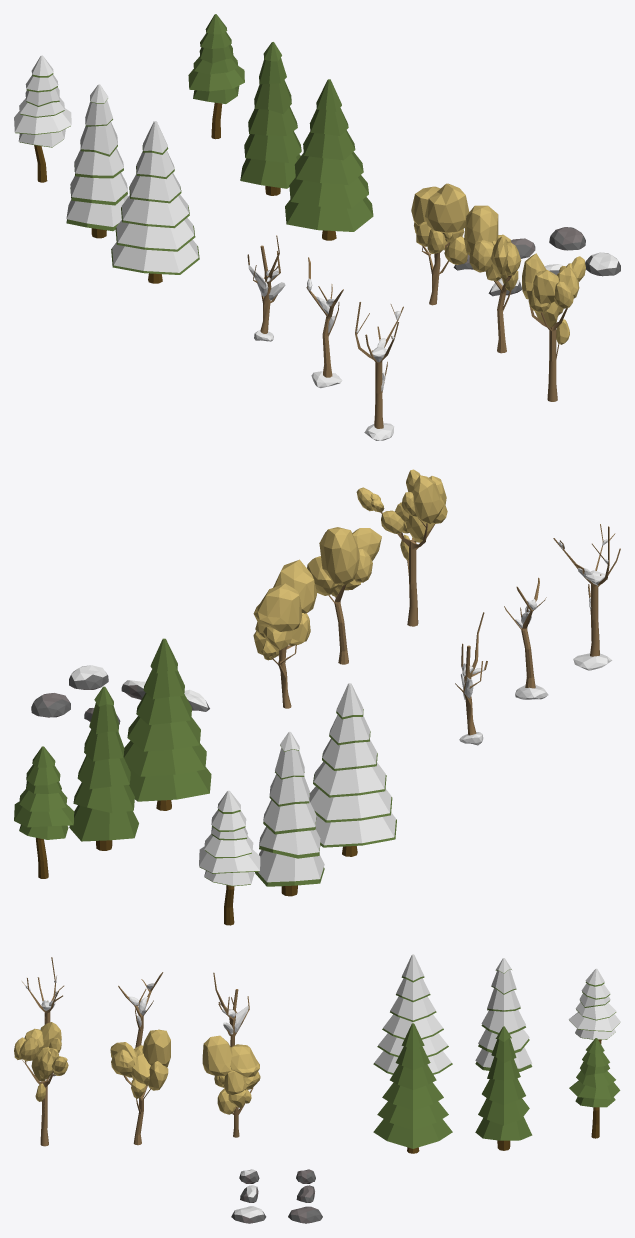
Rendered from low-poly-nature-pack.glb.
The picture shows the model from 3 angles, top to bottom: view 1: azimuth 30°, elevation 25°; view 2: azimuth 150°, elevation 25°; view 3: azimuth 270°, elevation 25°; orthographic projection. The views are drawn at different scales.
Parts seen in each view (by area): view 1: ElkaSnow, Elka, Elka_2Snow, Elka_2, Tree, Tree 3, Elka_3Snow, Tree_2, Elka_3, Tree 3Snow, Tree_2Snow, TreeWinter (+2 smaller); view 2: ElkaSnow, Elka, Elka_2Snow, Elka_2, Tree, Tree 3, Tree_2, Elka_3Snow, Elka_3, Tree 3Snow, Tree_2Snow, TreeWinter (+2 smaller); view 3: Elka, ElkaSnow, Elka_2, Tree, Elka_2Snow, Tree_2, Tree 3, Elka_3, Elka_3Snow, TreeWinter, Tree_2Snow, Tree 3Snow (+2 smaller).
Part boxes in pixels (left/top/right/bottom): ElkaSnow: left=111, top=121, right=199, bottom=283; Elka: left=285, top=79, right=373, bottom=240; Elka_2Snow: left=66, top=84, right=128, bottom=238; Elka_2: left=240, top=42, right=301, bottom=195; Tree: left=411, top=183, right=469, bottom=305; Tree 3: left=522, top=253, right=585, bottom=401; Elka_3Snow: left=14, top=55, right=71, bottom=182; Tree_2: left=464, top=205, right=521, bottom=353; Elka_3: left=188, top=14, right=244, bottom=139; Tree 3Snow: left=355, top=302, right=403, bottom=440; Tree_2Snow: left=306, top=257, right=343, bottom=388; TreeWinter: left=247, top=235, right=285, bottom=341; ElkaSnow: left=309, top=683, right=396, bottom=856; Elka: left=123, top=638, right=211, bottom=810; Elka_2Snow: left=255, top=731, right=324, bottom=896; Elka_2: left=69, top=686, right=138, bottom=850; Tree: left=253, top=559, right=316, bottom=708; Tree 3: left=356, top=469, right=447, bottom=626; Tree_2: left=307, top=527, right=381, bottom=664; Elka_3Snow: left=199, top=790, right=260, bottom=925; Elka_3: left=14, top=746, right=74, bottom=878; Tree 3Snow: left=553, top=524, right=620, bottom=670; Tree_2Snow: left=504, top=577, right=548, bottom=699; TreeWinter: left=455, top=612, right=487, bottom=745; Elka: left=373, top=1023, right=452, bottom=1153; ElkaSnow: left=373, top=954, right=452, bottom=1074; Elka_2: left=475, top=1026, right=532, bottom=1150; Tree: left=202, top=1035, right=260, bottom=1137; Elka_2Snow: left=475, top=958, right=532, bottom=1071; Tree_2: left=110, top=1029, right=170, bottom=1145; Tree 3: left=14, top=1022, right=68, bottom=1146; Elka_3: left=569, top=1038, right=620, bottom=1138; Elka_3Snow: left=568, top=968, right=620, bottom=1043; TreeWinter: left=213, top=972, right=249, bottom=1046; Tree_2Snow: left=118, top=972, right=163, bottom=1047; Tree 3Snow: left=22, top=957, right=64, bottom=1076.
Bounding box in the file's own units: 20.74 × 7.84 × 33.44.
